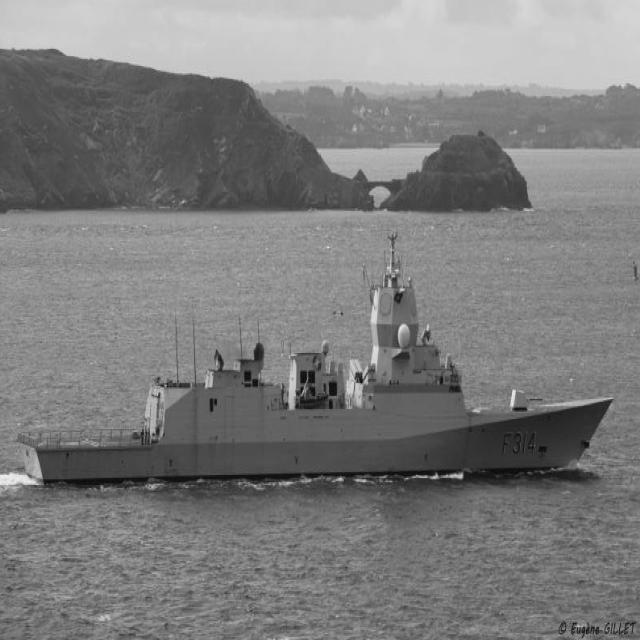Fragata: (16, 213, 624, 495)
